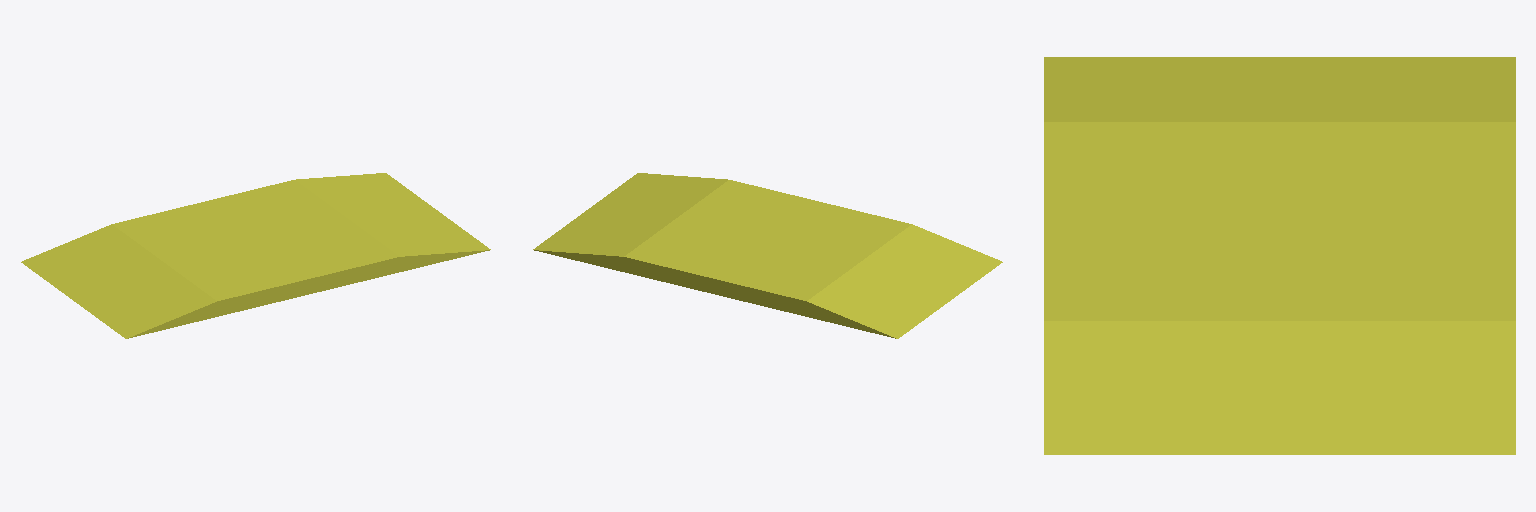
URDF robot description (Part1):
<?xml version="1.0" encoding="utf-8"?>
<!-- This URDF was automatically created by SolidWorks to URDF Exporter! Originally created by [author] ([email redacted]) 
     Commit Version: 1.5.1-0-g916b5db  Build Version: 1.5.7152.31018
     For more information, please see http://wiki.ros.org/sw_urdf_exporter -->
<robot
  name="Part1">
  <link
    name="ramp_5">
    <inertial>
      <origin
        xyz="7.5814E-16 7.67928484115444E-17 -0.005"
        rpy="0 0 0" />
      <mass
        value="500" />
      <inertia
        ixx="180.35"
        ixy="-6.0423E-14"
        ixz="4.7564E-15"
        iyy="450.35"
        iyz="1.08287265732095E-14"
        izz="630" />
    </inertial>
    <visual>
      <origin
        xyz="2.5 0 0"
        rpy="1.5707963267949 0 0" />
      <geometry>
        <mesh
          filename="package://ramp_5/meshes/ramp_5.STL" scale="1.5 2.7 1.5" />
      </geometry>
      <material
        name="">
        <color
           rgba="0.8 0.8 0.3 1" />
        <texture
          filename="package://ramp_5/textures/" />
      </material>
    </visual>
    <collision>
      <origin
        xyz="2.5 0 0"
        rpy="1.5707963267949 0 0" />
      <geometry>
        <mesh
          filename="package://ramp_5/meshes/ramp_5.STL"  scale="1.5 2.7 1.5"/>
      </geometry>
    </collision>
  </link>
</robot>

--- Render facts (derived) ---
The picture shows the robot from 3 angles, left to right: view 1: azimuth 30°, elevation 25°; view 2: azimuth 150°, elevation 25°; view 3: azimuth 270°, elevation 25°; orthographic projection.
Model Part1 with 1 links and 0 joints (none), rooted at ramp_5, posed every joint at zero.
Links seen in each view (by area): view 1: ramp_5; view 2: ramp_5; view 3: ramp_5.
Link boxes in pixels (box(x1,y1,x2,y2)): ramp_5: box(21, 173, 490, 338); ramp_5: box(533, 173, 1002, 338); ramp_5: box(1044, 57, 1515, 454).
Bounding box of the posed robot: 6 × 3 × 0.243 m (x, y, z).
Meshes: 1 distinct files referenced, 1 mesh visuals loaded (1 binary STL).